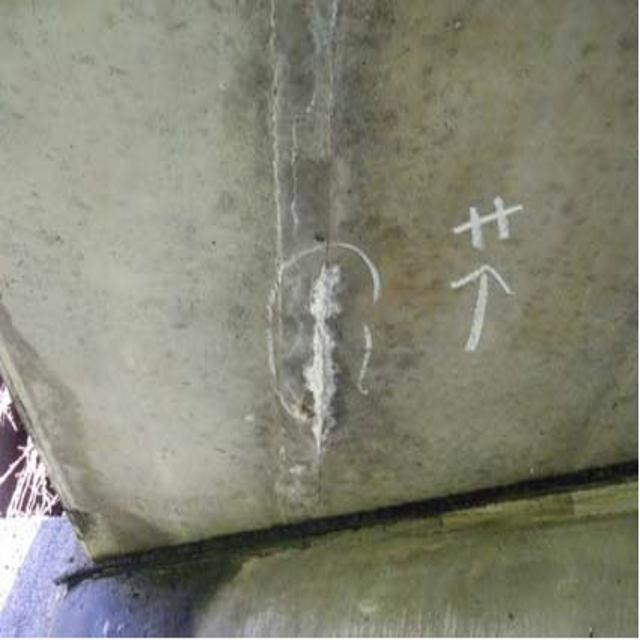freelime: (294, 258, 344, 458)
